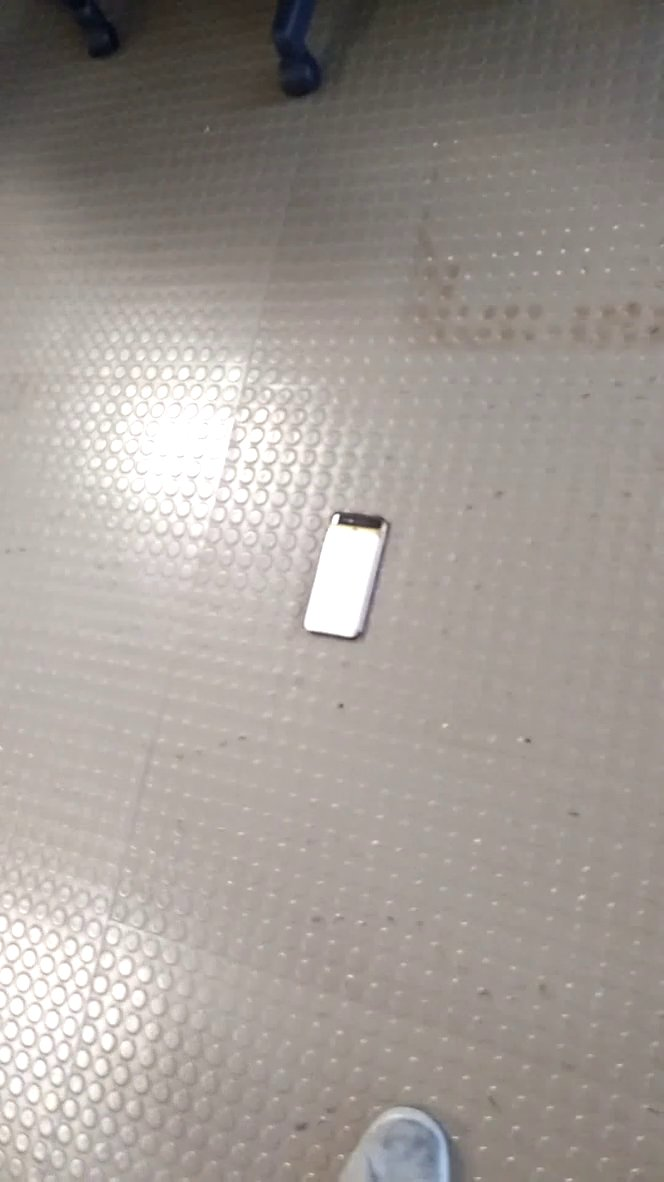phone: (291, 501, 405, 658)
